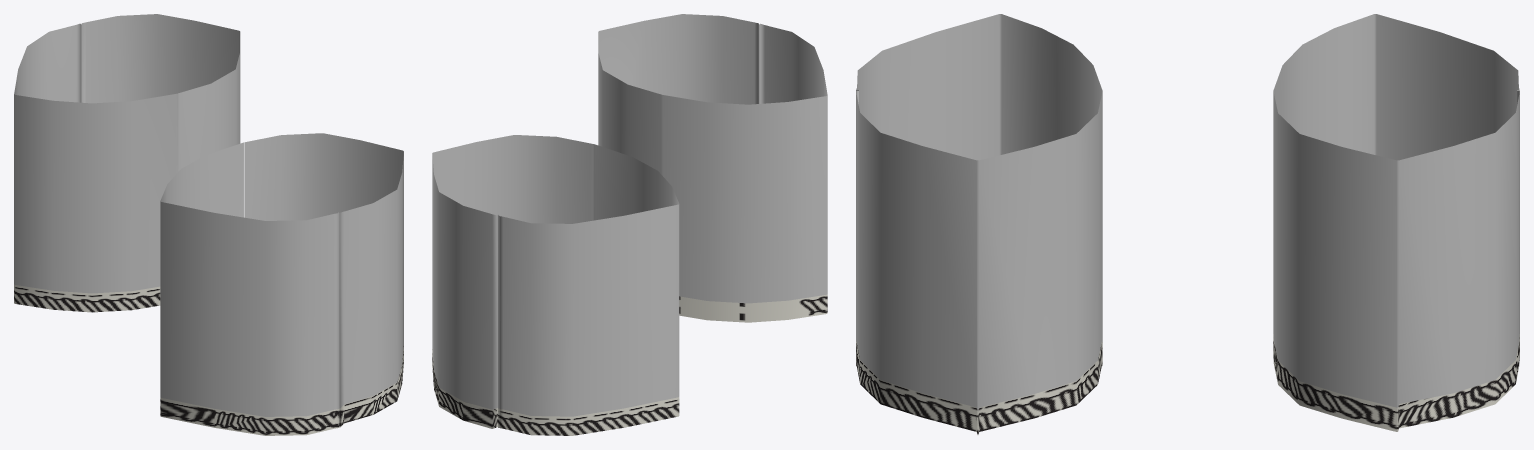
Rendered from vent_4_cm_in_side_seam_finished.glb.
The picture shows the model from 3 angles, left to right: view 1: azimuth 30°, elevation 25°; view 2: azimuth 150°, elevation 25°; view 3: azimuth 270°, elevation 25°; orthographic projection. The views are drawn at different scales.
Visible parts, largest first — view 1: SM_T_Vent_4cm_Unfinished; view 2: SM_T_Vent_4cm_Unfinished; view 3: SM_T_Vent_4cm_Unfinished.
Part boxes in pixels (<box>): SM_T_Vent_4cm_Unfinished: <box>14,14,403,435</box>; SM_T_Vent_4cm_Unfinished: <box>432,14,827,435</box>; SM_T_Vent_4cm_Unfinished: <box>856,14,1519,434</box>.
Bounding box in the file's own units: 0.8621 × 0.757 × 1.65.
Materials: 2 (1 with a texture image).
